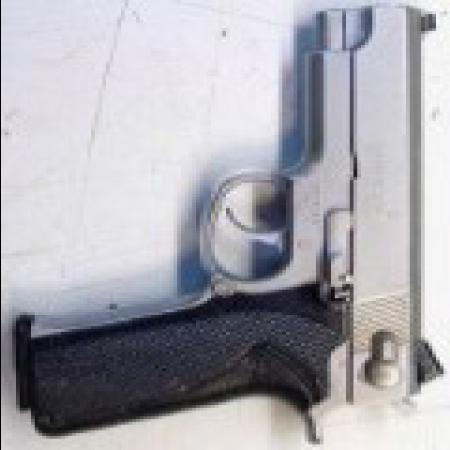Pistol: (23, 5, 442, 434)
